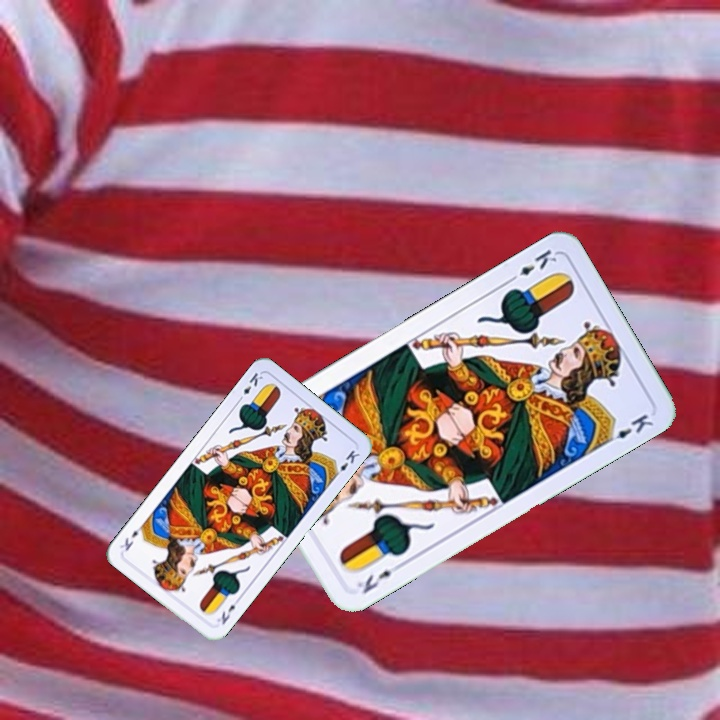EK: (504, 245, 560, 286), (353, 558, 405, 597), (234, 368, 266, 405), (213, 594, 243, 627)
